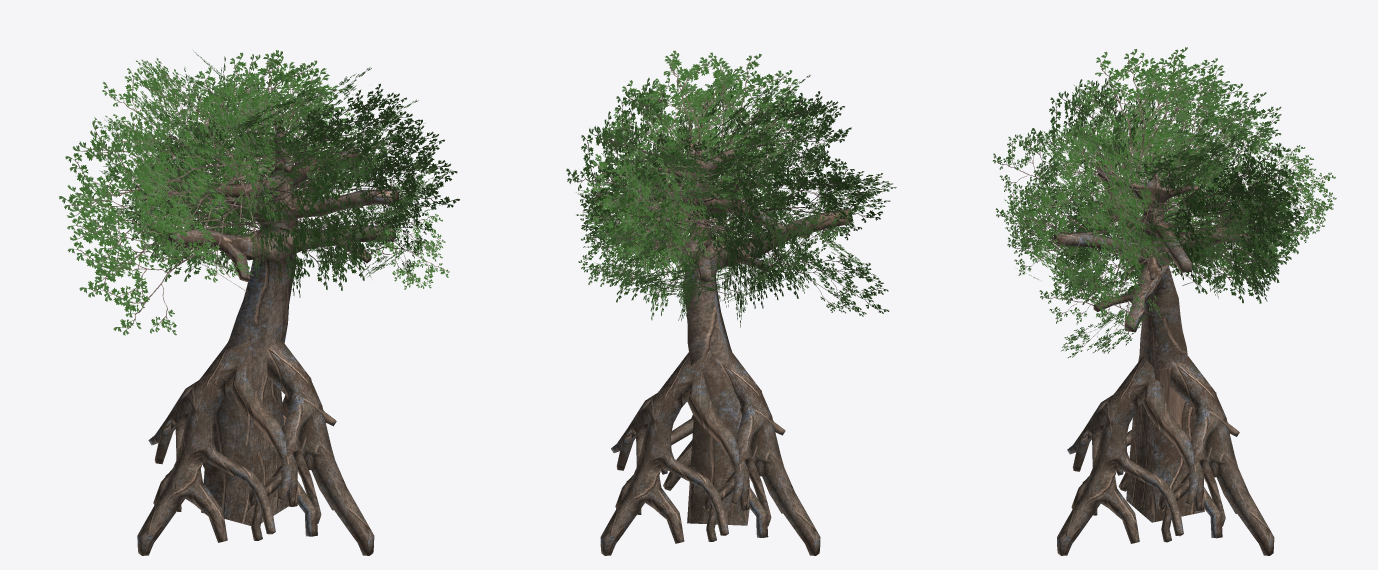
The model's file is swampTree_root.fbx.
3 views of the same model, side by side, from view 1: azimuth 30°, elevation 25°; view 2: azimuth 150°, elevation 25°; view 3: azimuth 270°, elevation 25° (orthographic). The views are drawn at different scales.
Visible parts, largest first — view 1: Plane; view 2: Plane; view 3: Plane.
Part boxes in pixels (box(x1,y1,x2,y2)): Plane: box(59, 50, 459, 555); Plane: box(566, 50, 896, 555); Plane: box(993, 47, 1336, 555).
Bounding box in the file's own units: 952 × 1130 × 842.
